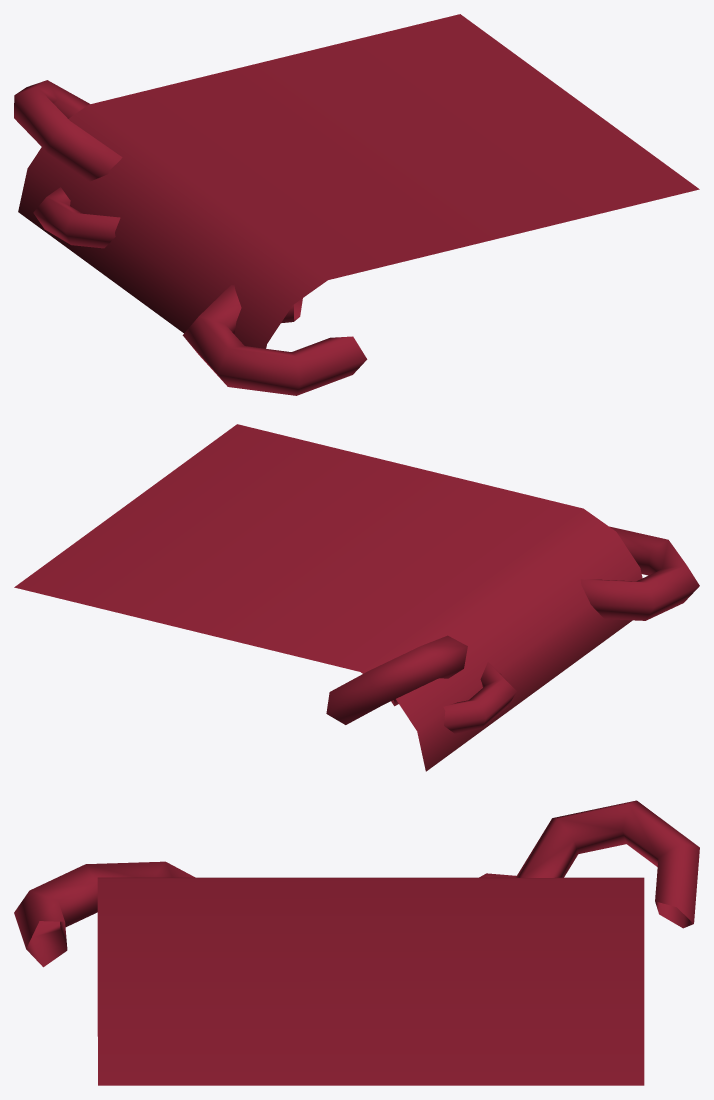
File: Surface_RoadUp01.fbx
3 views of the same model, one above another, from view 1: azimuth 30°, elevation 25°; view 2: azimuth 150°, elevation 25°; view 3: azimuth 270°, elevation 25° (orthographic). The views are drawn at different scales.
Visible parts, largest first — view 1: Surface_RoadUp01; view 2: Surface_RoadUp01; view 3: Surface_RoadUp01.
Boxes of the visible parts, left/top/right/bottom form: Surface_RoadUp01: left=14, top=14, right=699, bottom=395; Surface_RoadUp01: left=14, top=424, right=699, bottom=771; Surface_RoadUp01: left=14, top=800, right=699, bottom=1085.
Bounding box in the file's own units: 2359 × 585 × 2510.
